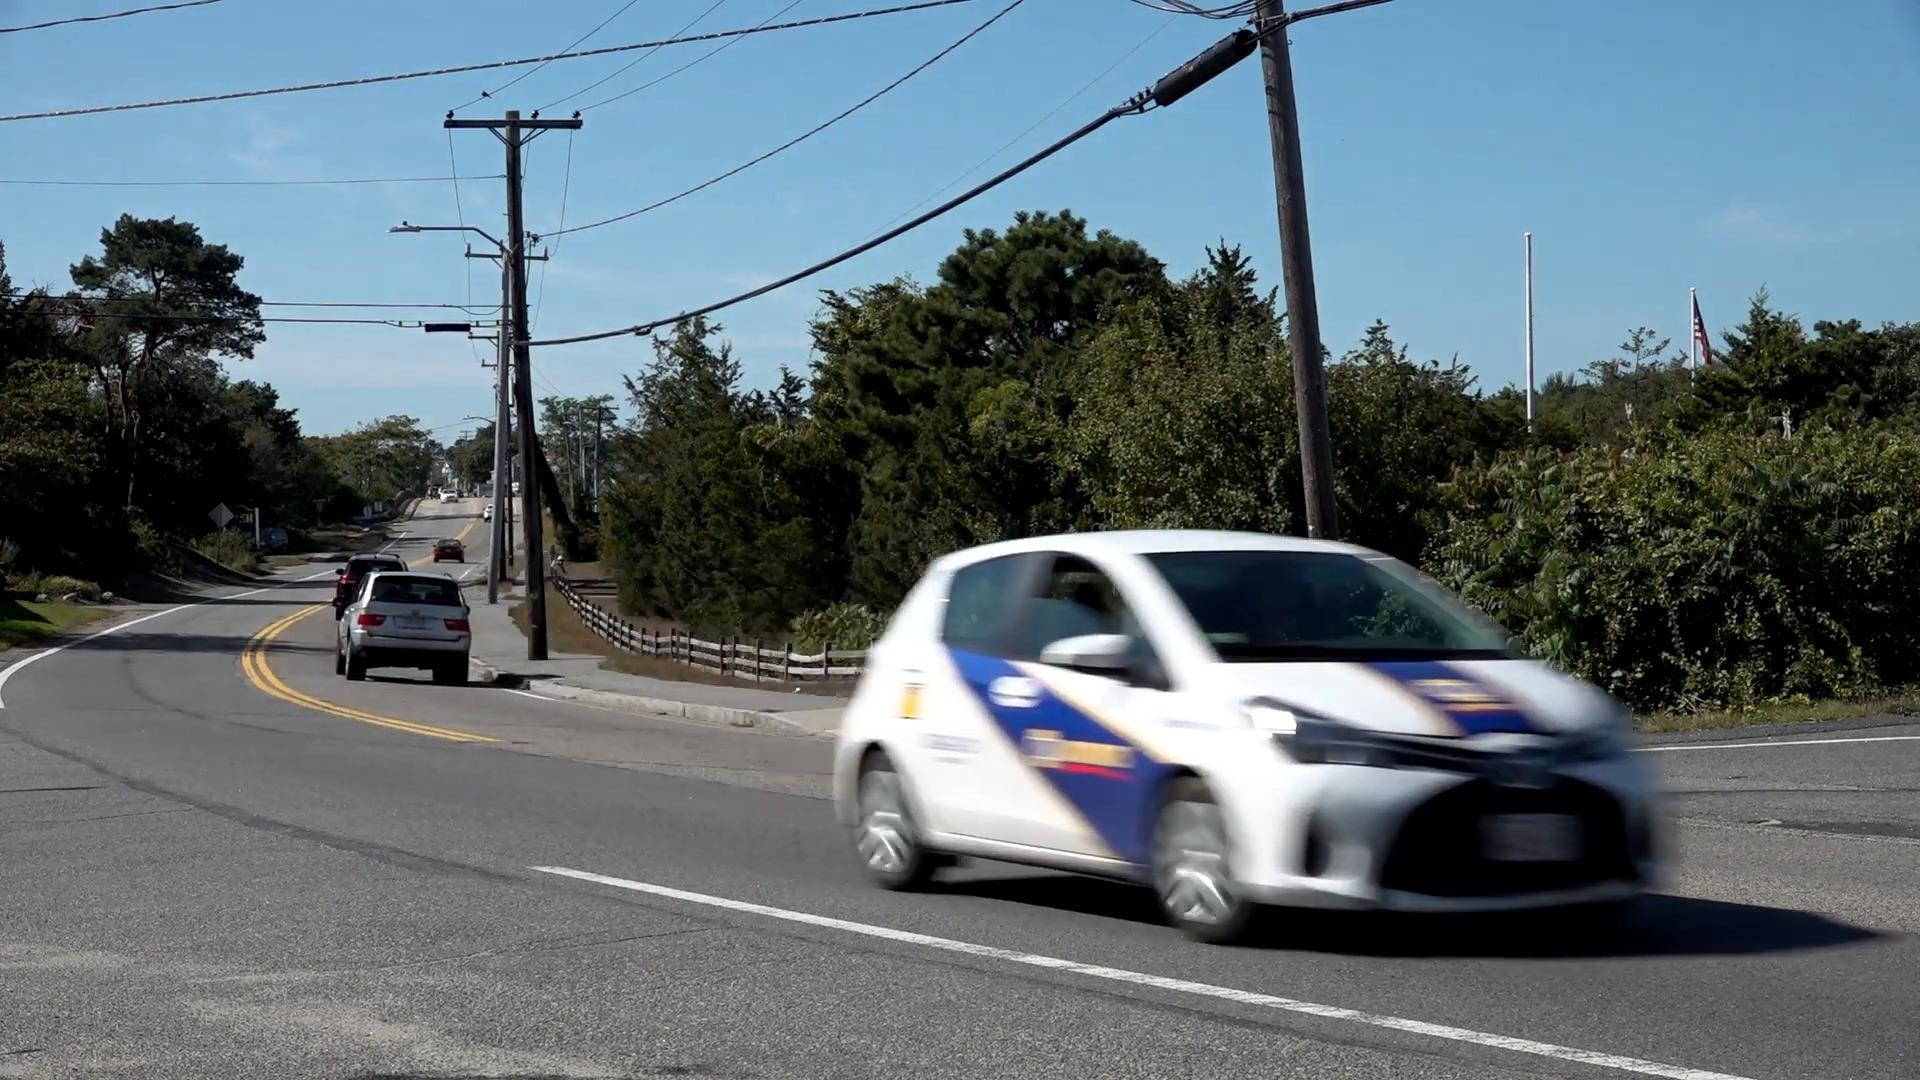sedans: (816, 521, 1697, 953)
suv: (334, 568, 473, 687)
